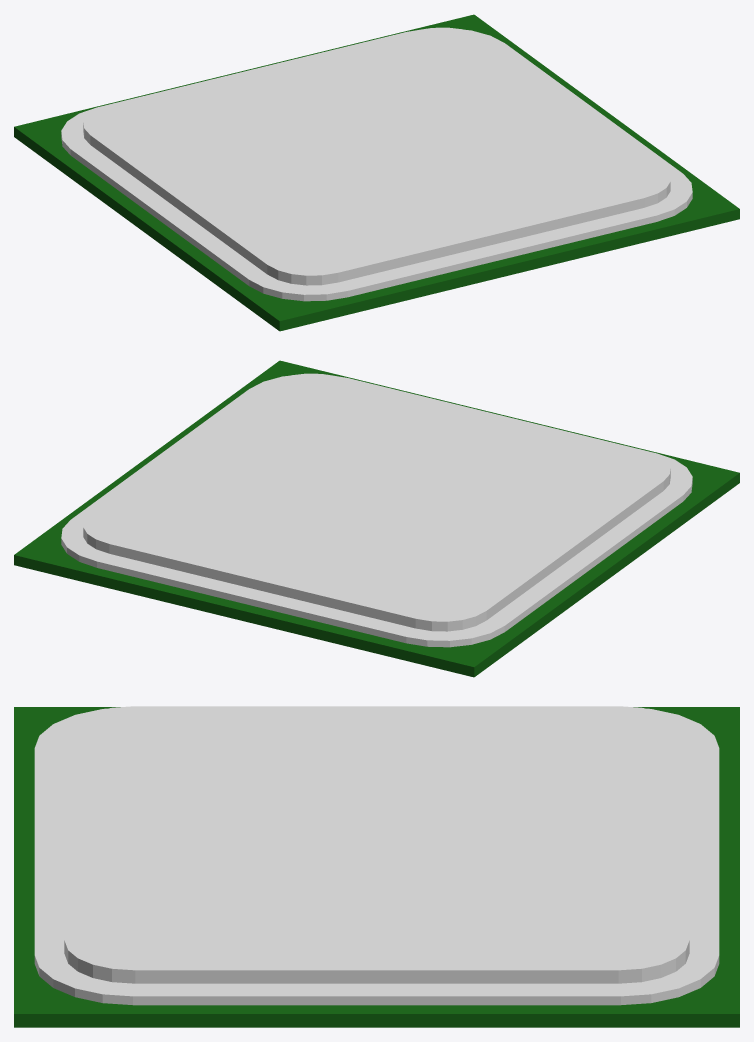
File: CPU.fbx
The picture shows the model from 3 angles, top to bottom: view 1: azimuth 30°, elevation 25°; view 2: azimuth 150°, elevation 25°; view 3: azimuth 270°, elevation 25°; orthographic projection. The views are drawn at different scales.
Visible parts, largest first — view 1: Cube; view 2: Cube; view 3: Cube.
Boxes of the visible parts, x1,y1,x2,y2 form: Cube: (14, 14, 739, 331); Cube: (14, 360, 739, 677); Cube: (14, 706, 739, 1027).
Size of the model in its own units: 21.56 by 1.18 by 21.56.
